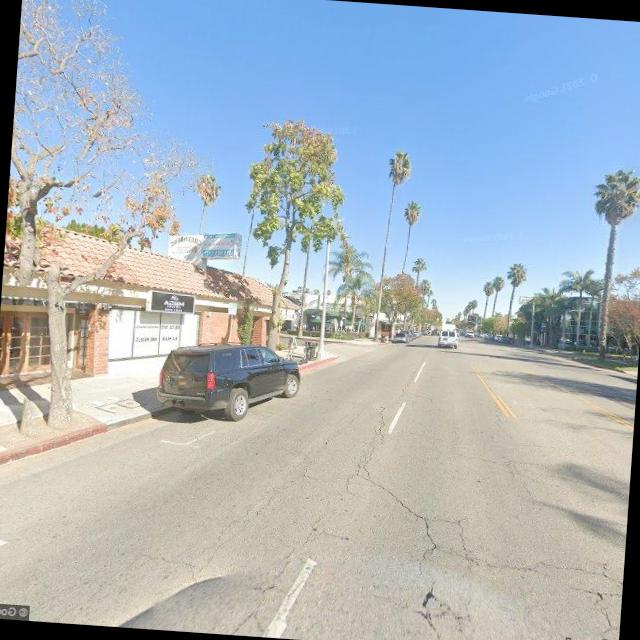crack: (353, 485, 628, 640)
